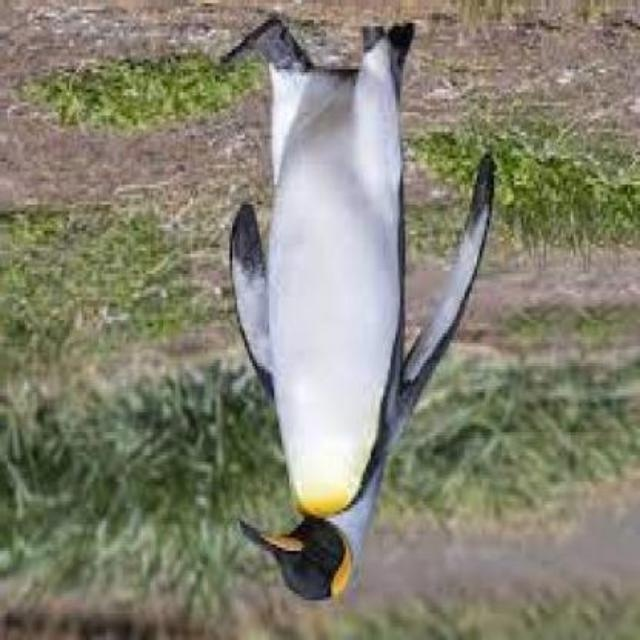penguin: (215, 19, 495, 601)
